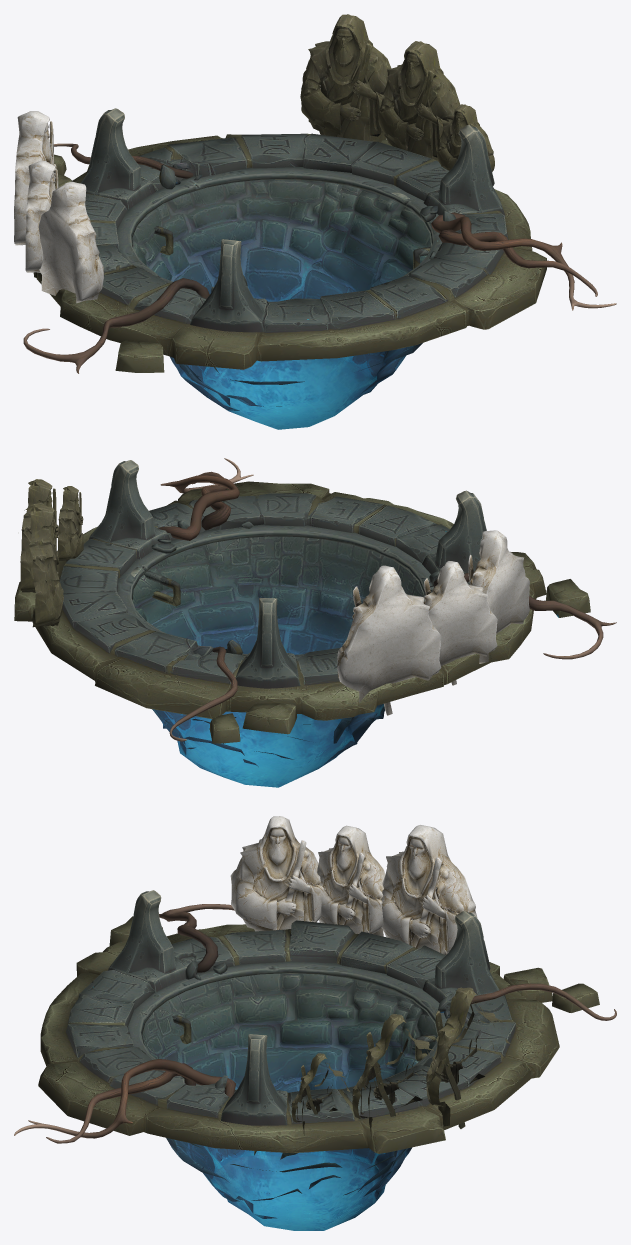
The model's file is altarfinall233.glb.
3 renders of one model, top to bottom at view 1: azimuth 30°, elevation 25°; view 2: azimuth 150°, elevation 25°; view 3: azimuth 270°, elevation 25°, orthographic. The views are drawn at different scales.
Visible parts, largest first — view 1: models/props_structures/waterfall_bridge_statue002_tintable.; view 2: models/props_structures/waterfall_bridge_statue002_tintable.; view 3: models/props_structures/waterfall_bridge_statue002_tintable..
Part boxes in pixels (box(x1,y1,x2,y2)): models/props_structures/waterfall_bridge_statue002_tintable.: box(14, 14, 616, 429); models/props_structures/waterfall_bridge_statue002_tintable.: box(14, 458, 616, 787); models/props_structures/waterfall_bridge_statue002_tintable.: box(14, 816, 616, 1230).
Bounding box in the file's own units: 97.92 × 55.54 × 102.
Materials: 8 (8 with a texture image).
